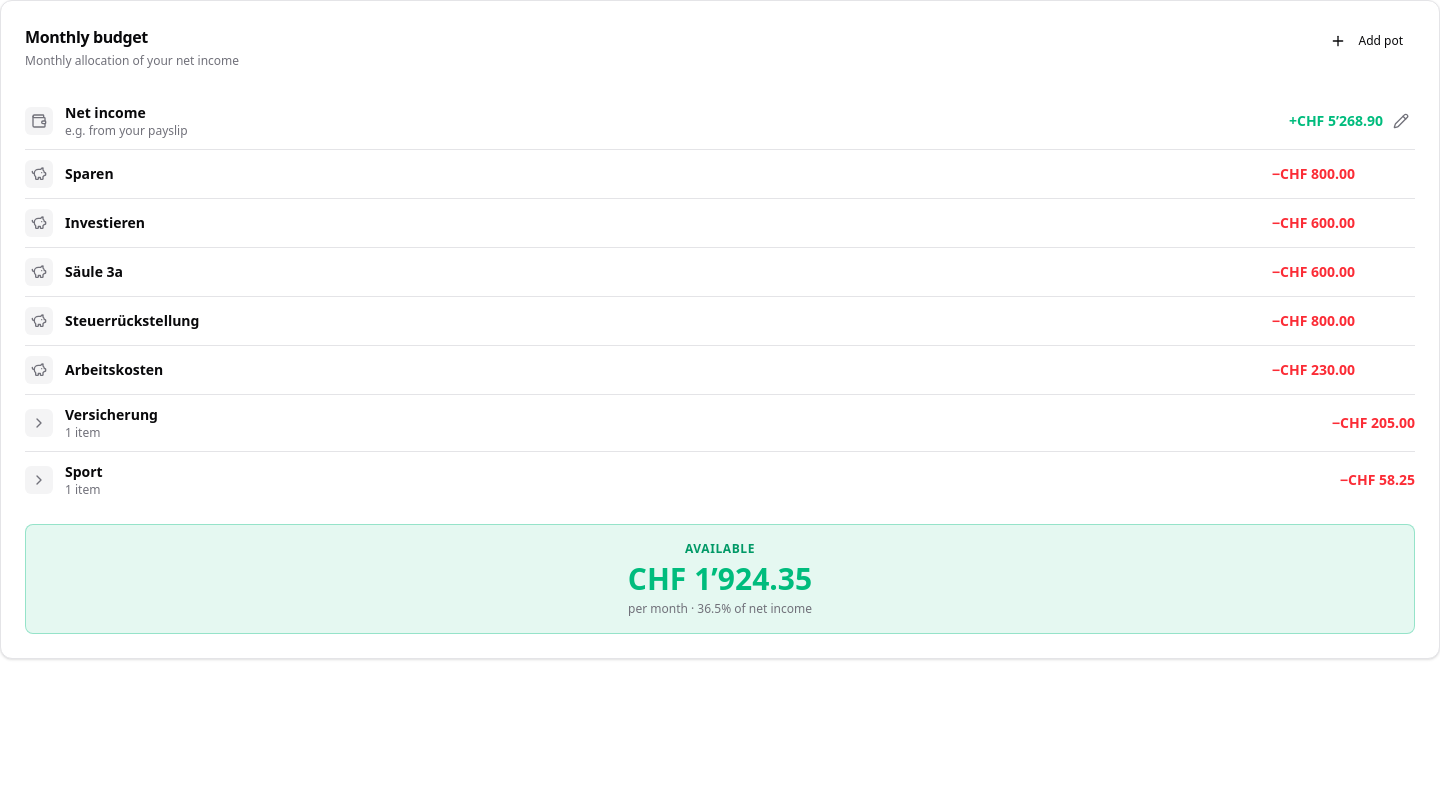
Scenario: MonthlyBudgetCard › shows the server error in the position dialog on a duplicate name
The width and height of the screenshot is (1440, 810).
Click the button "Add pot" at (1367, 41), box [1318,25,1415,57]
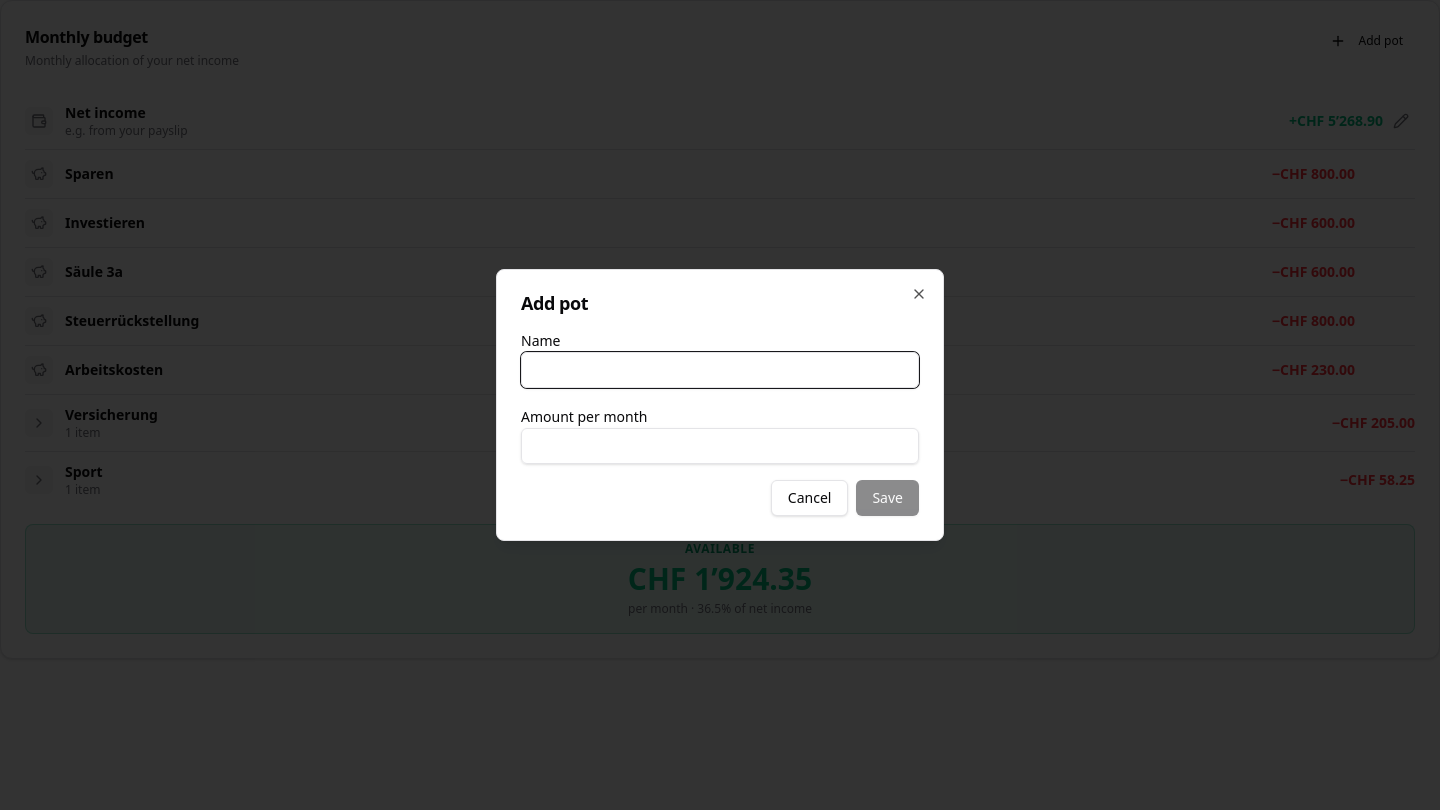
Type "Sparen" into the field labelled "Name" at (720, 370), box [521,352,919,388]
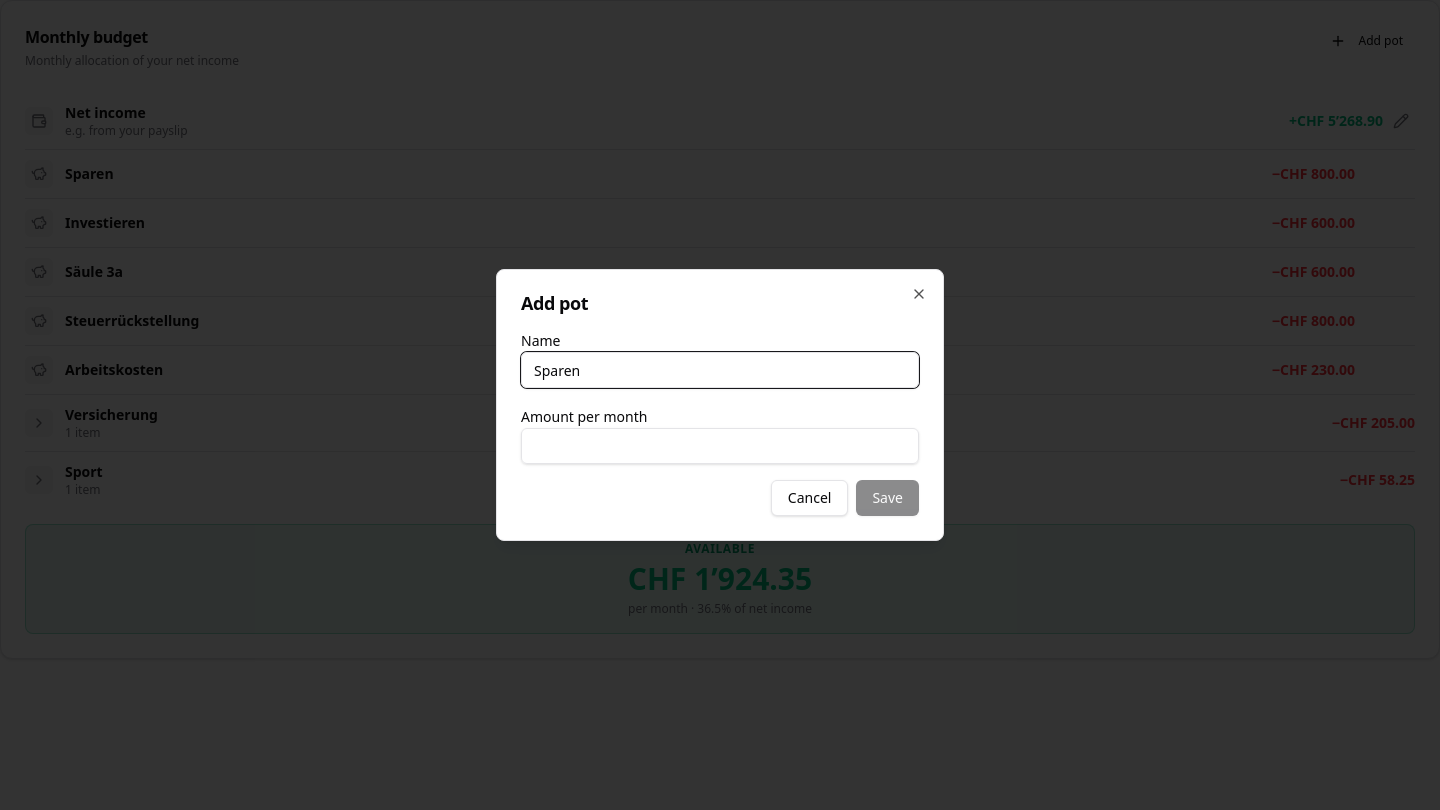
Type "100" into the number field labelled "Amount per month" at (720, 446), box [521,428,919,464]
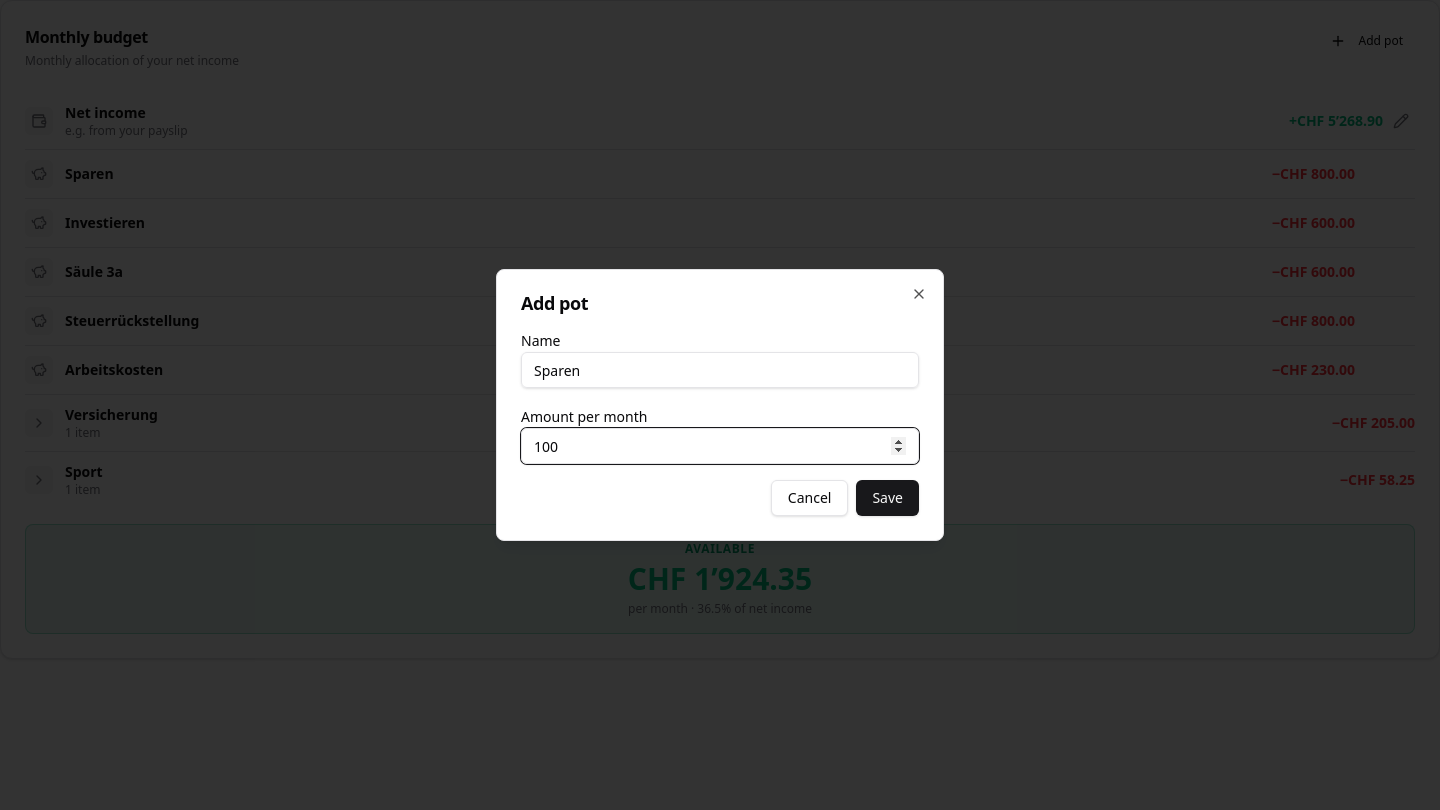
Click the button "Save" at (888, 498), box [856,480,919,516]
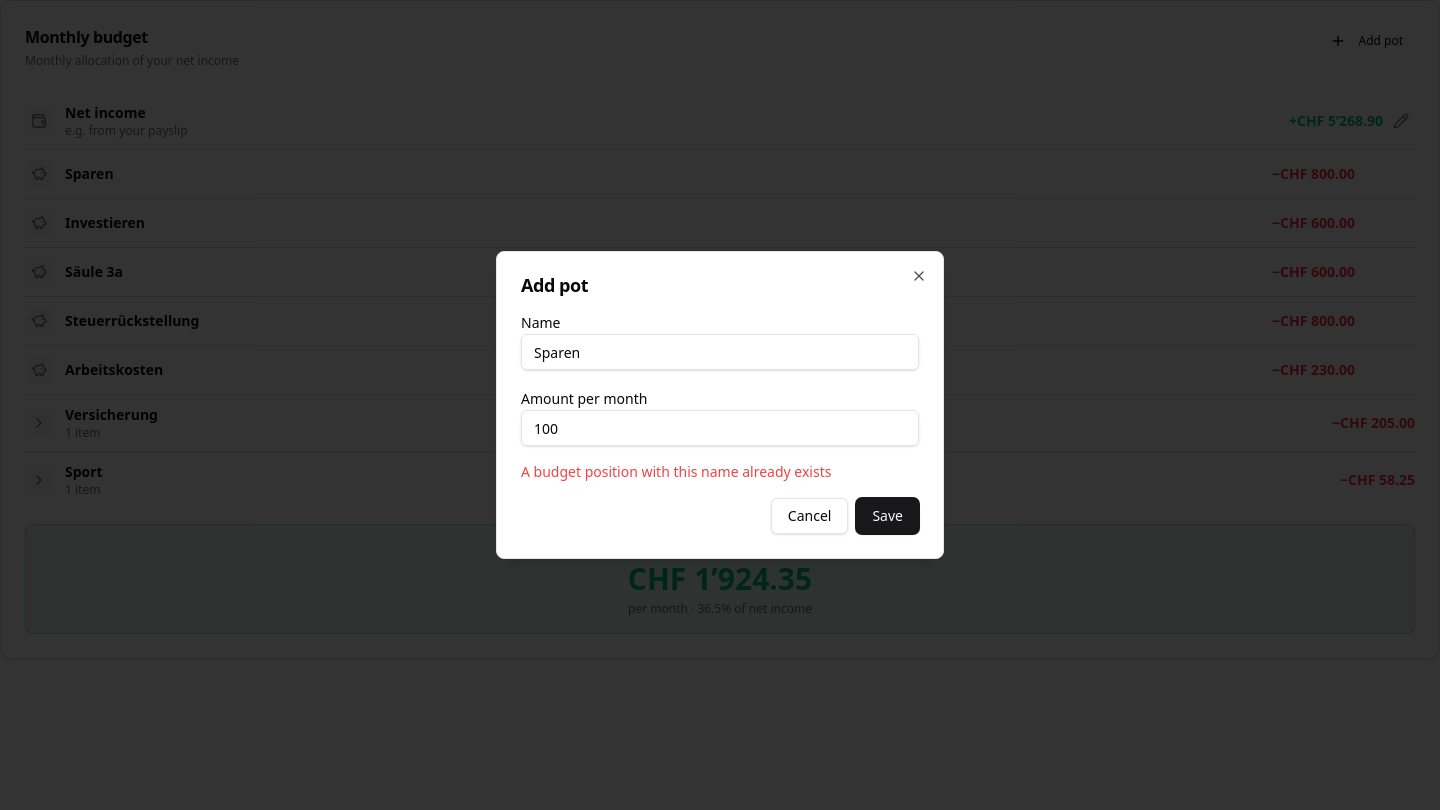
Expected: the text "A budget position with this name already exists" is shown, [521,462,832,481]
